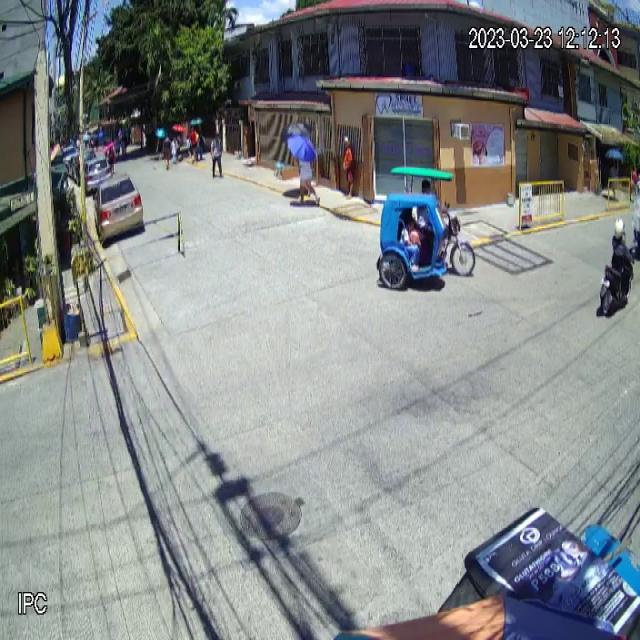Tricycle: (376, 166, 476, 290)
